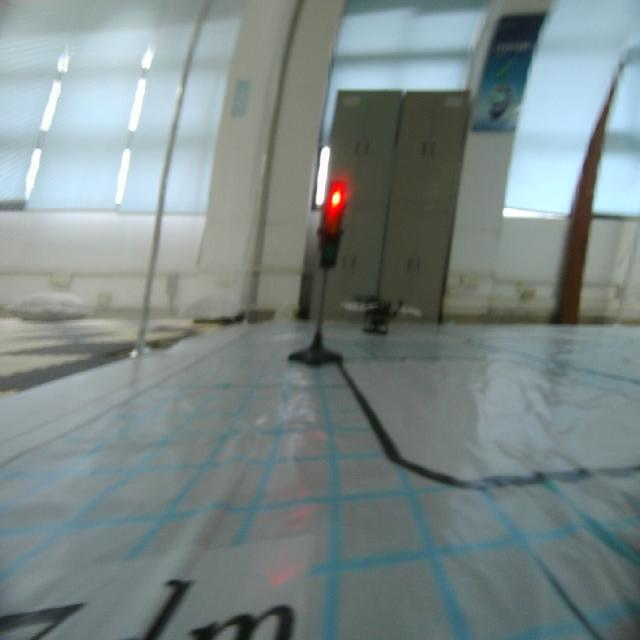red: (320, 176, 348, 268)
